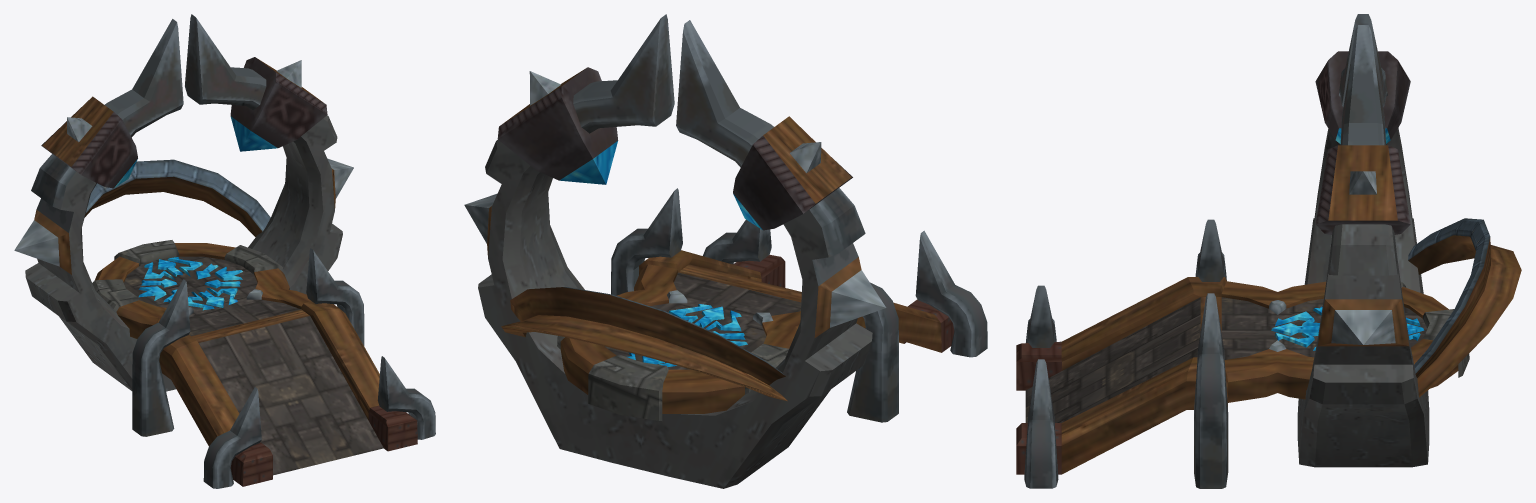
The model's file is Portal_A.fbx.
The picture shows the model from 3 angles, left to right: view 1: azimuth 30°, elevation 25°; view 2: azimuth 150°, elevation 25°; view 3: azimuth 270°, elevation 25°; orthographic projection. The views are drawn at different scales.
Parts seen in each view (by area): view 1: Portal_A; view 2: Portal_A; view 3: Portal_A.
Boxes of the visible parts, x1,y1,x2,y2 form: Portal_A: (14,14,435,488); Portal_A: (464,14,987,488); Portal_A: (1016,14,1521,488).
Size of the model in its own units: 1078 by 1038 by 1169.
